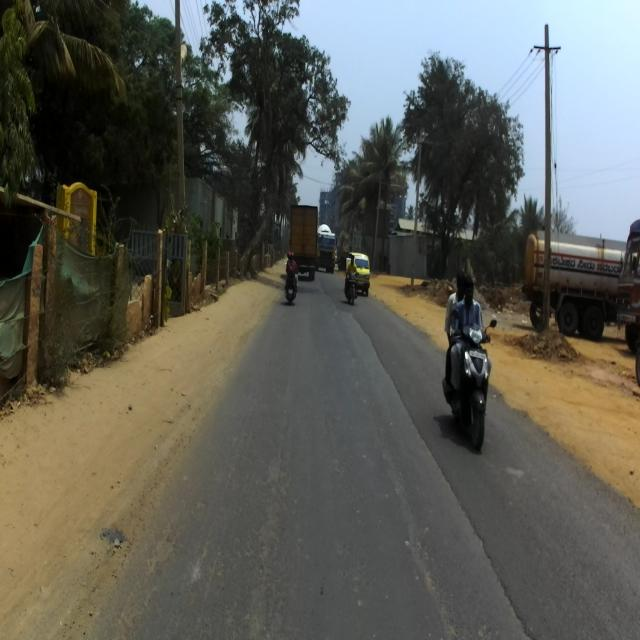barrier ahead at: (22, 242, 50, 396), (154, 226, 165, 329)
motorcycle ahead at: (440, 304, 499, 453)
